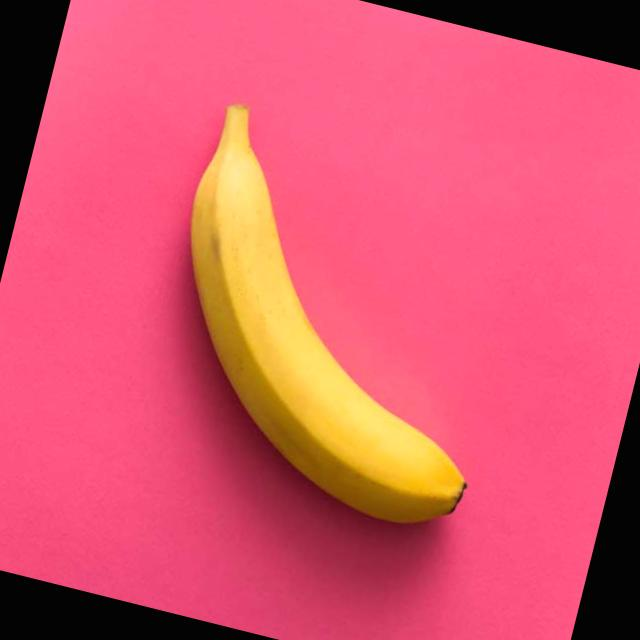banana: (131, 104, 549, 566)
